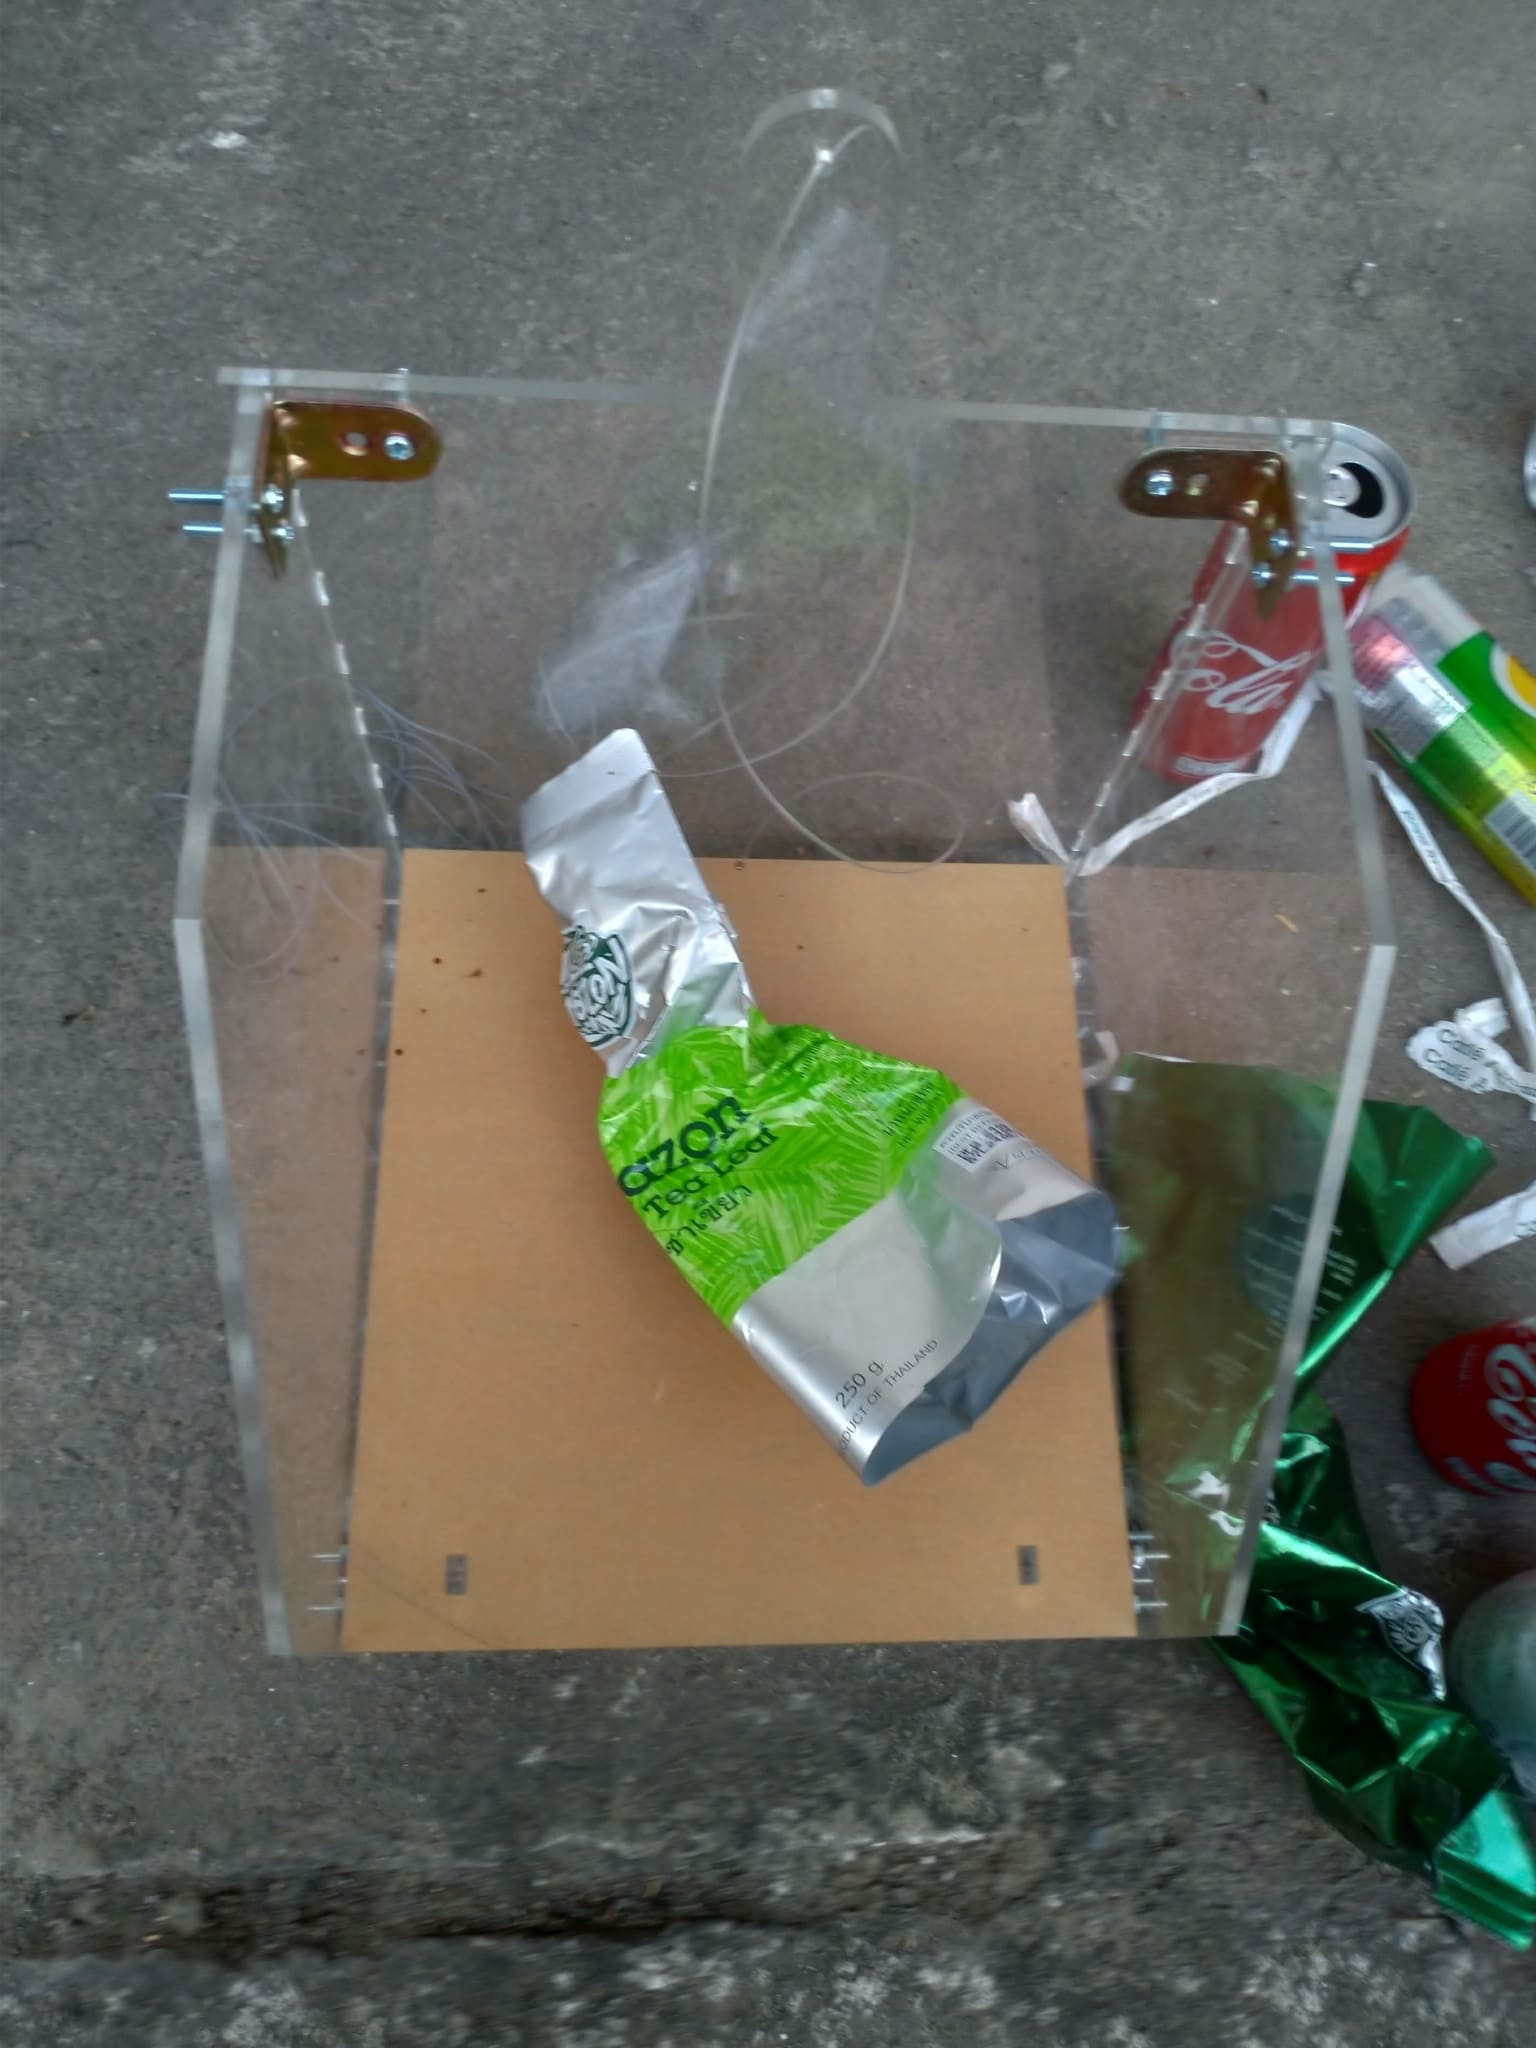AlCan: (1125, 419, 1413, 772), (1333, 555, 1536, 897), (1400, 1321, 1536, 1488)
Others: (510, 727, 1129, 1484), (1113, 1034, 1536, 1924)
